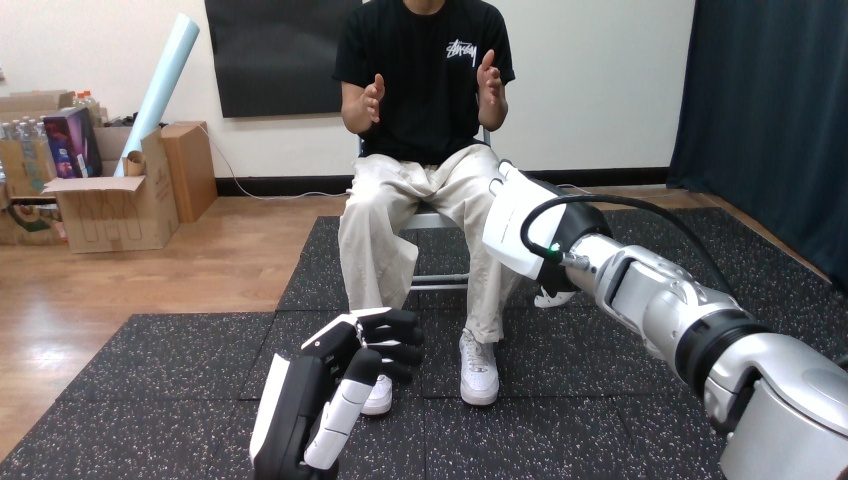left robot hand: (483, 161, 847, 478), (250, 307, 423, 479), (586, 200, 728, 292)
